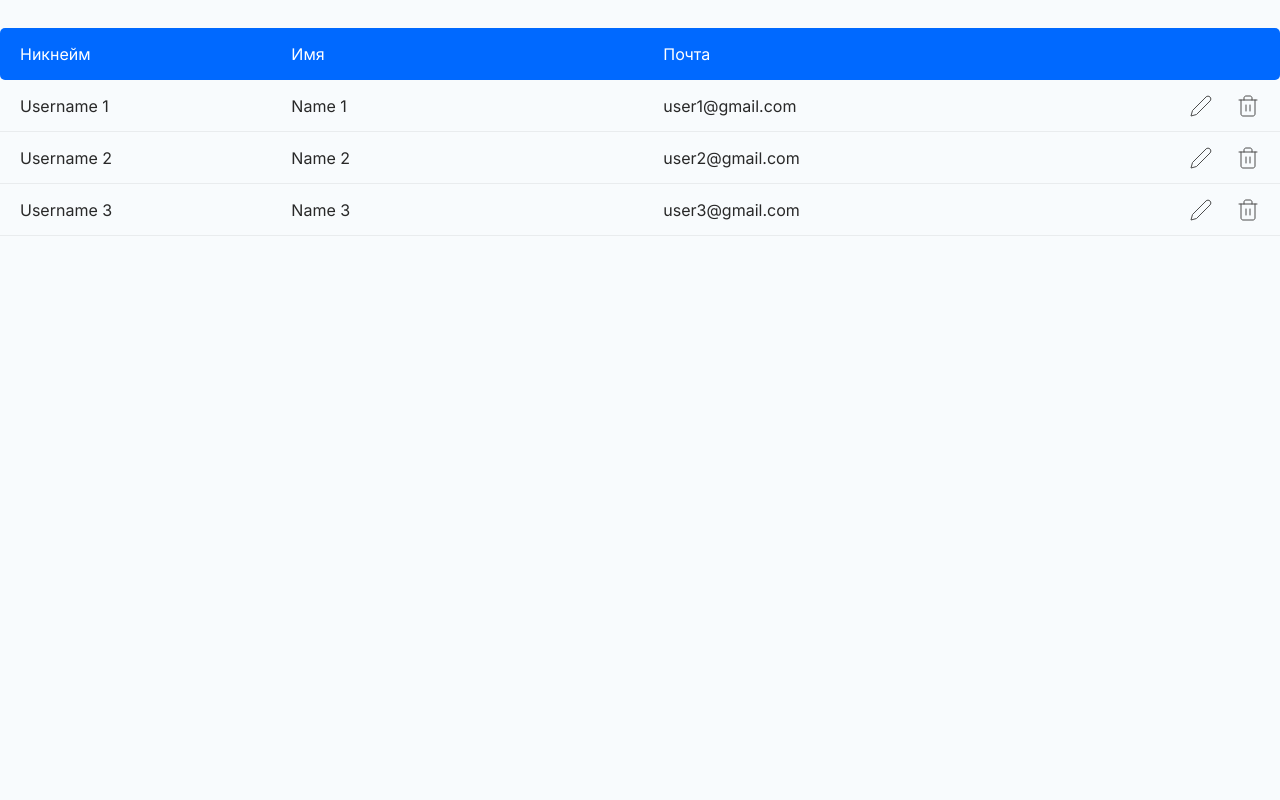
it: Users › should show modalConfirm if basket icon was clicked
The width and height of the screenshot is (1280, 800).
Click the picture with alt text "basket" in the row of "user1@gmail.com". click: (1248, 106)
box: [1233,90,1263,120]
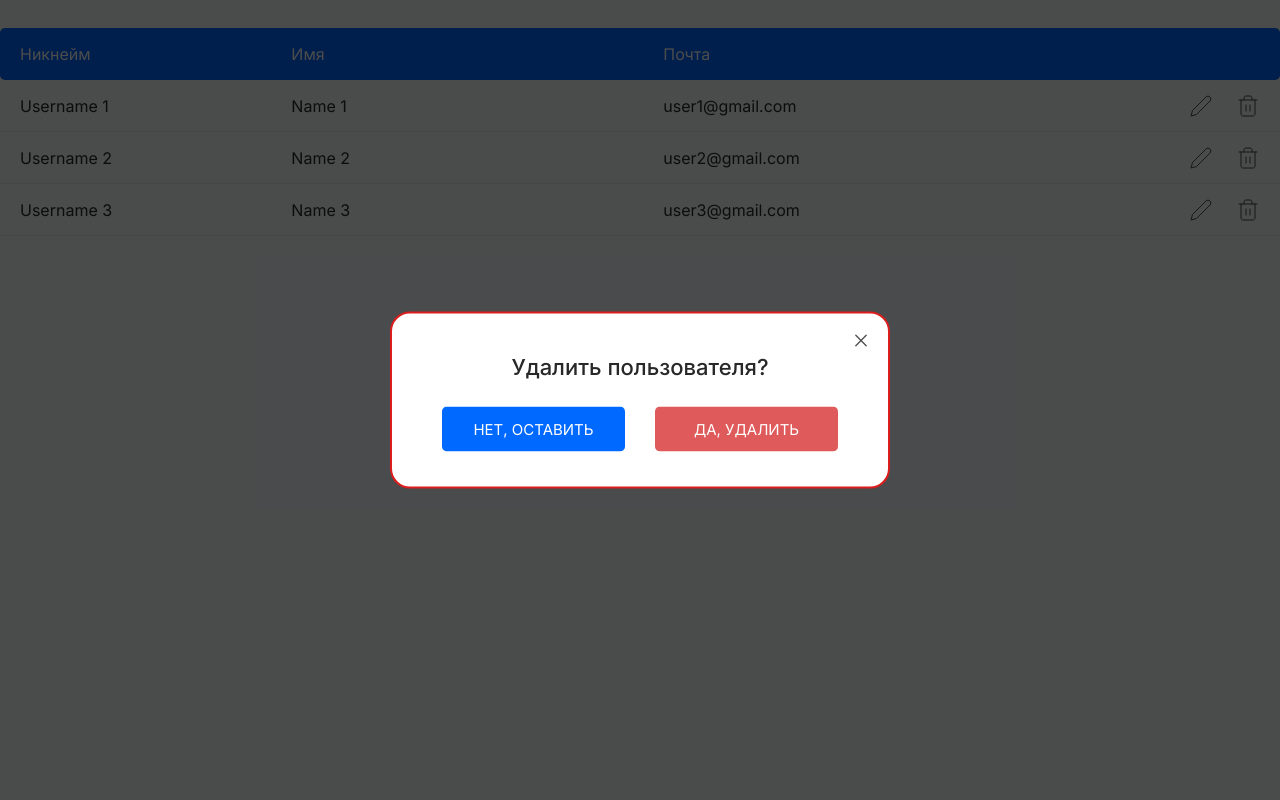
Expected: the element with test id "modalConfirm" is shown, [442,354,838,452]
